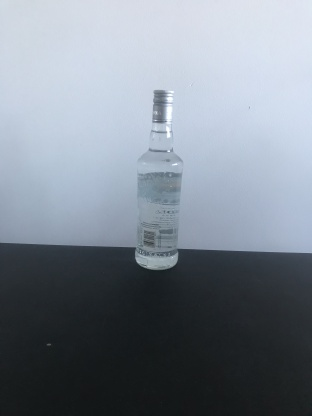nakretka: (150, 86, 175, 125)
